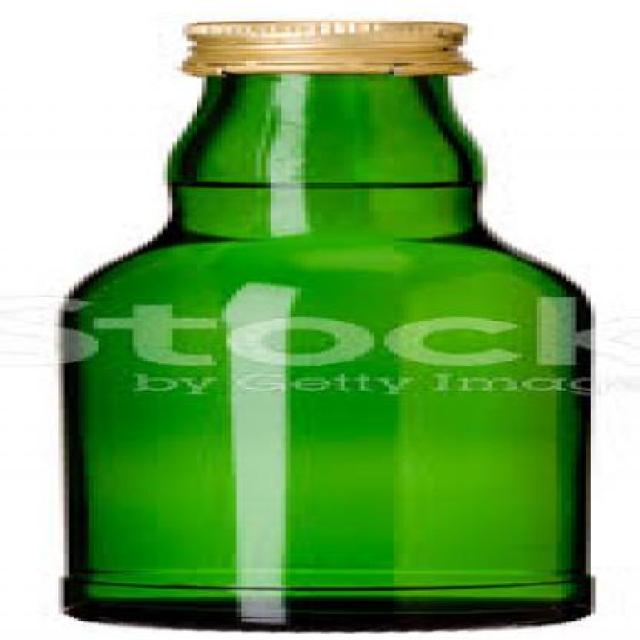kaca: (58, 69, 591, 631)
